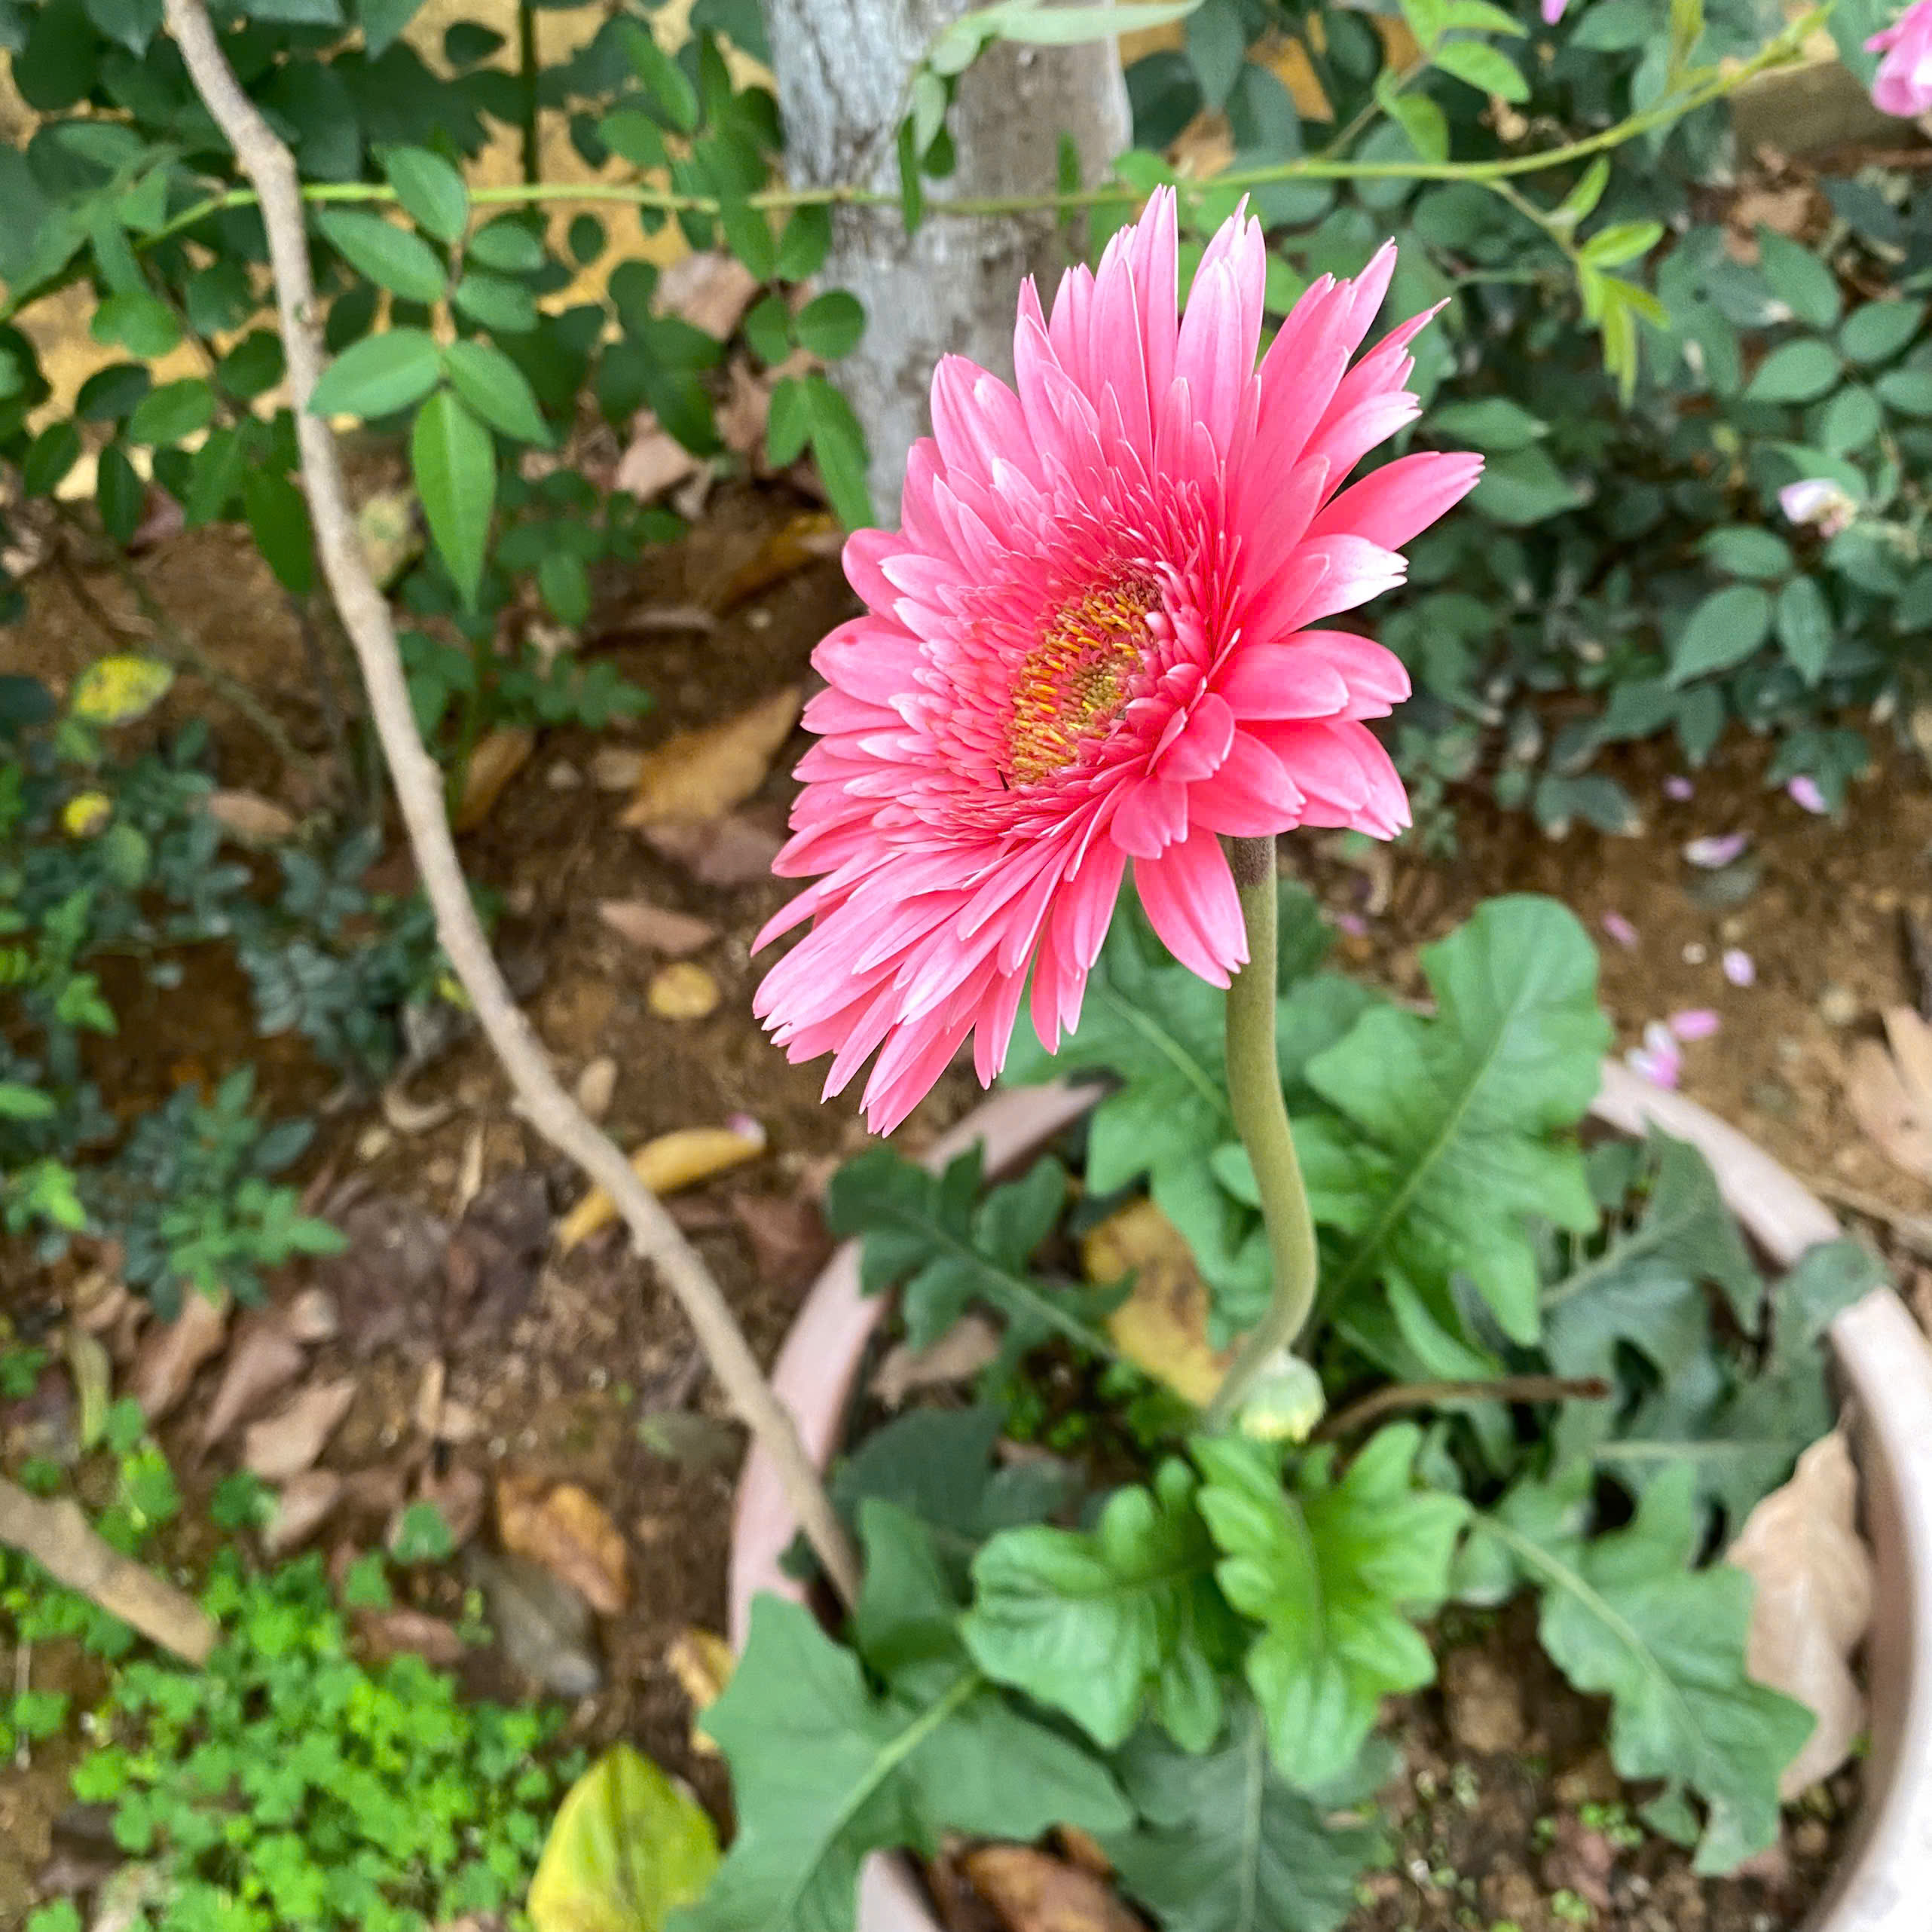hoa_huong_duong: (755, 166, 1815, 1882)
